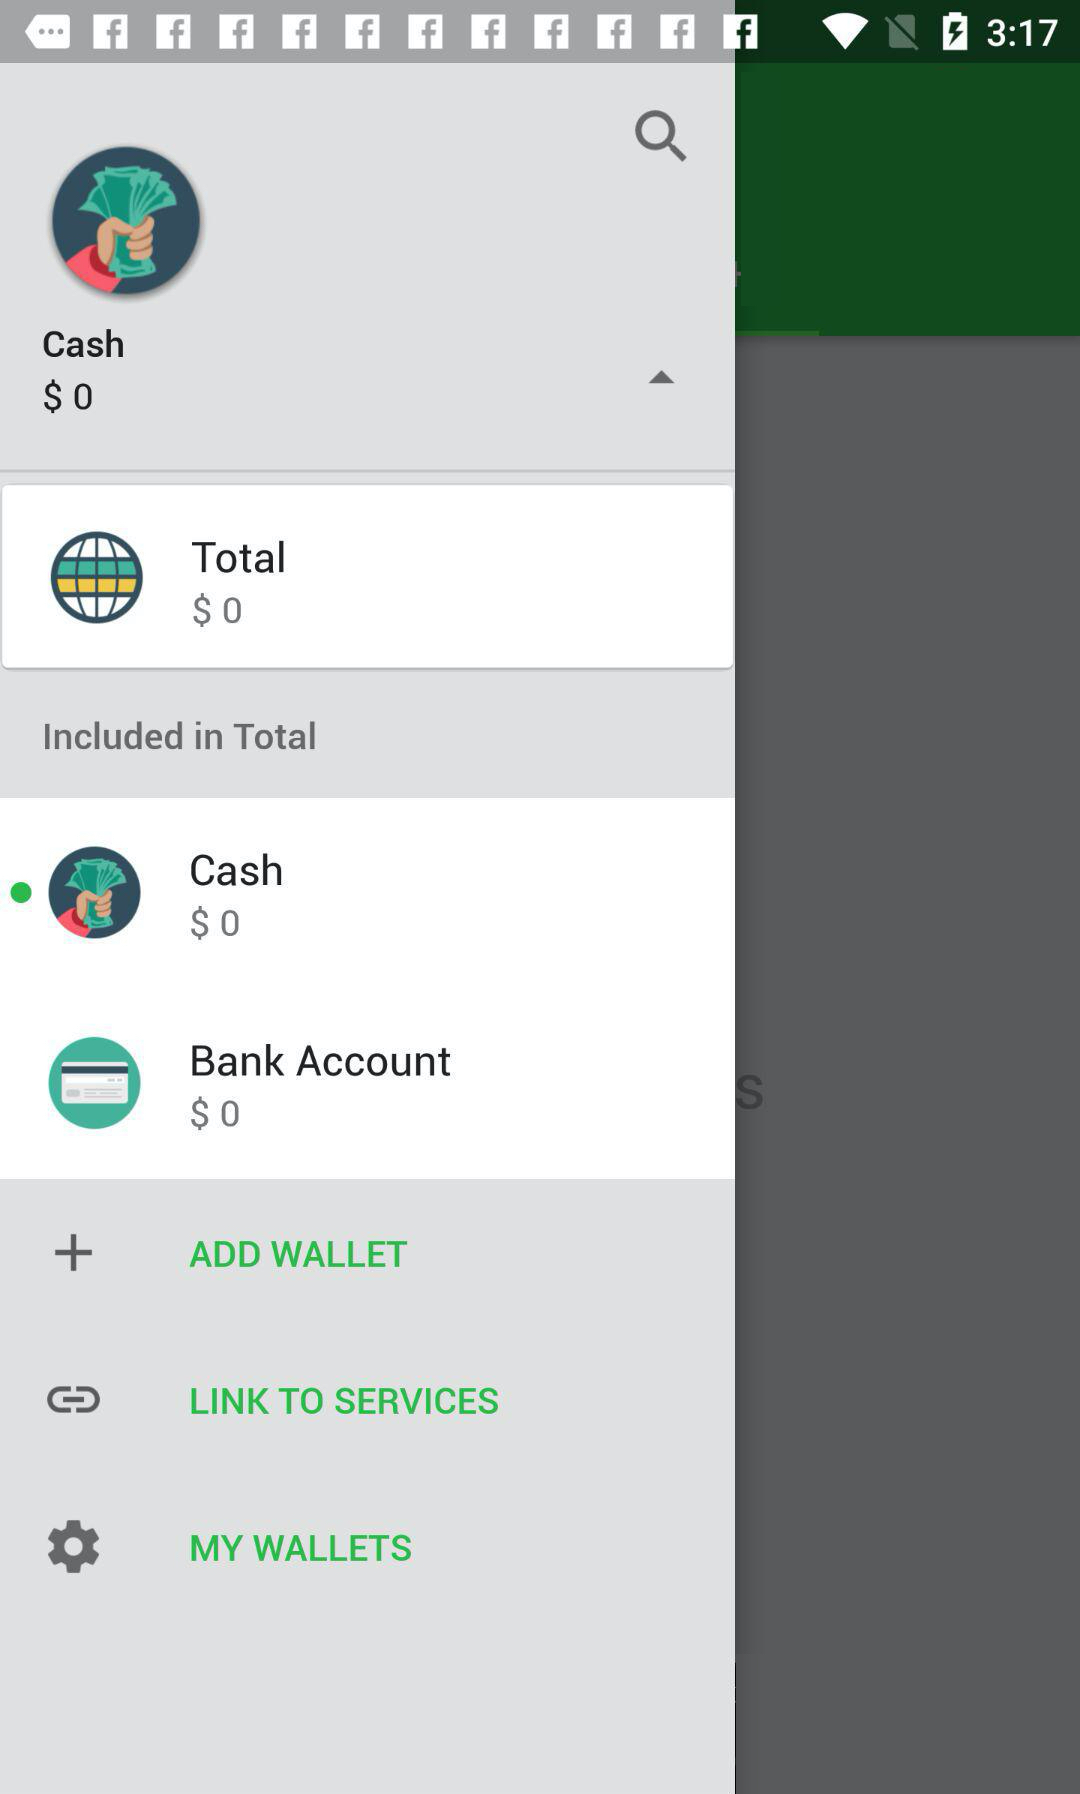Drawer: (1, 64, 735, 1794)
Icon: (633, 109, 688, 164), (47, 1518, 101, 1574), (55, 1234, 94, 1272), (647, 366, 676, 384)
Image: (53, 147, 201, 297), (47, 846, 143, 941), (47, 1035, 142, 1130), (51, 531, 145, 625), (47, 1385, 102, 1413)
Text: (190, 1387, 500, 1417), (44, 718, 319, 751), (192, 1043, 454, 1078), (190, 1533, 413, 1563), (190, 1240, 409, 1270), (190, 851, 283, 887), (193, 541, 284, 574), (44, 328, 126, 360), (44, 378, 94, 416), (190, 1094, 241, 1132), (190, 906, 240, 941), (192, 593, 243, 627)
UpperTaskBar: (1, 1, 1080, 64)
